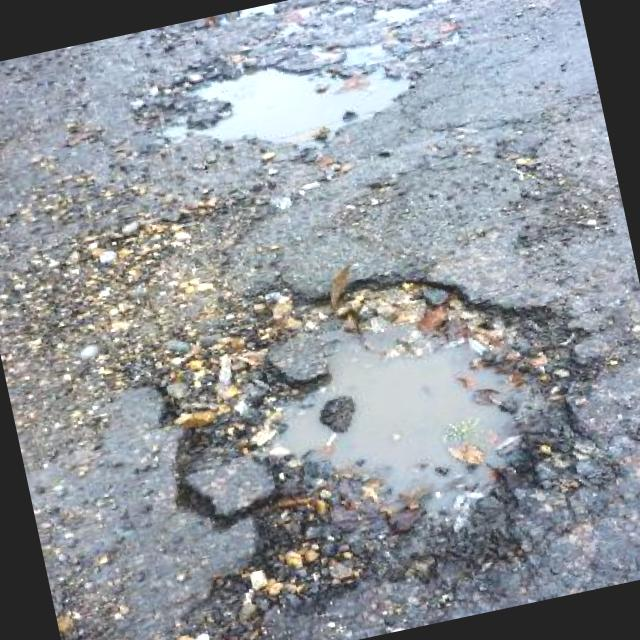Lubang: (175, 284, 615, 640), (192, 67, 409, 142)
